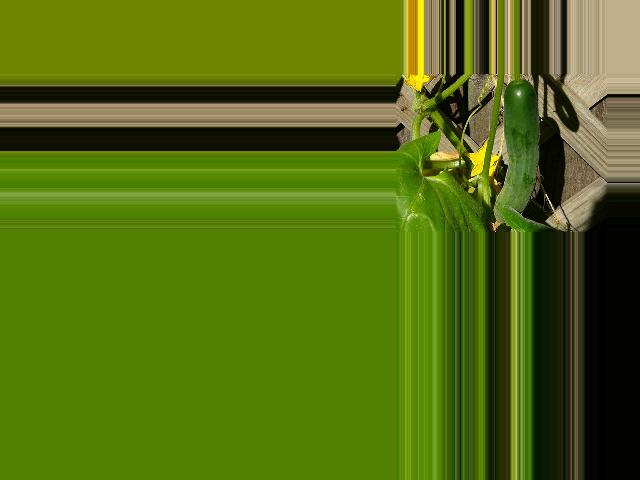cucumber: (494, 81, 540, 231)
